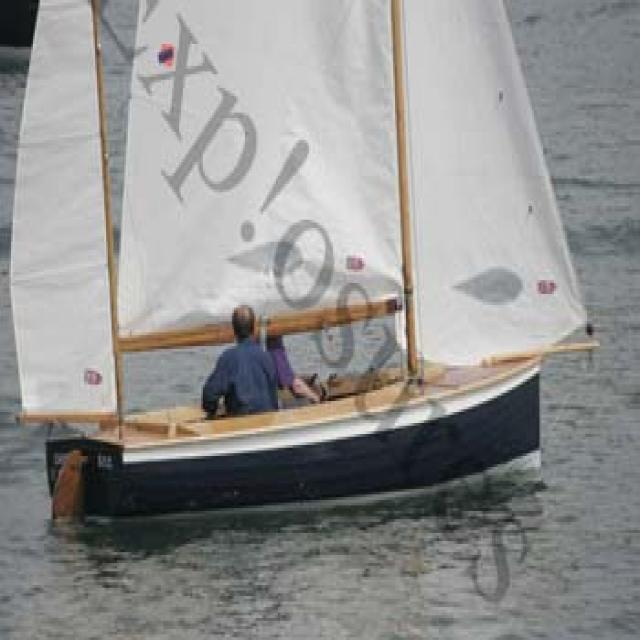Ship: (20, 4, 600, 508)
